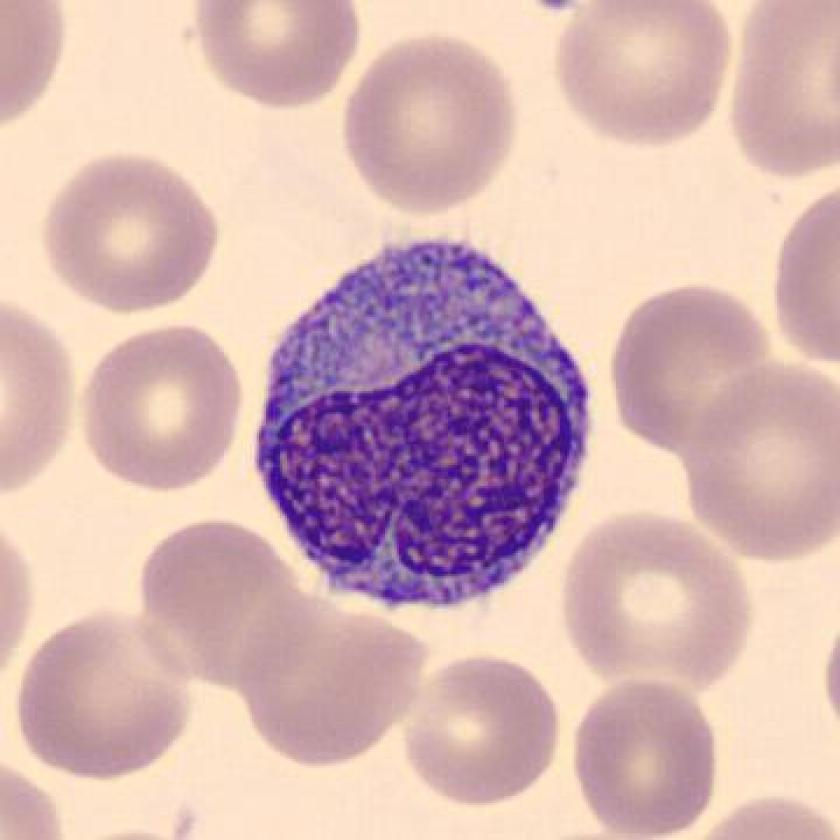monocyte: (242, 221, 606, 637)
